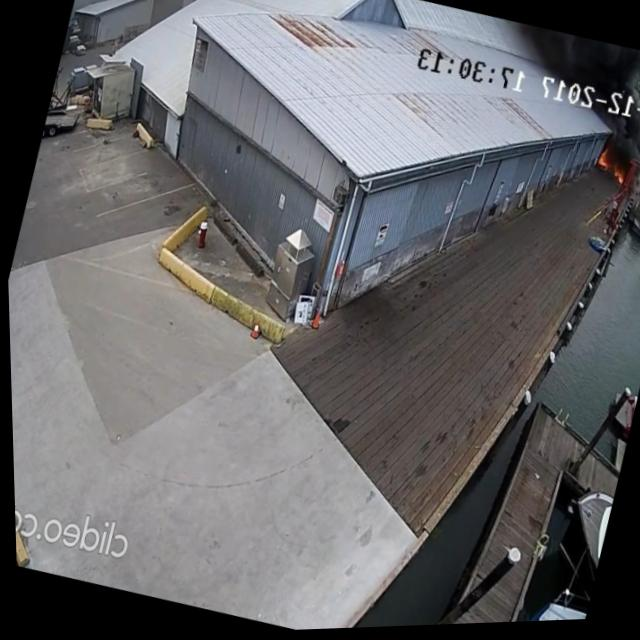fire: (592, 149, 615, 179), (608, 168, 626, 190)
